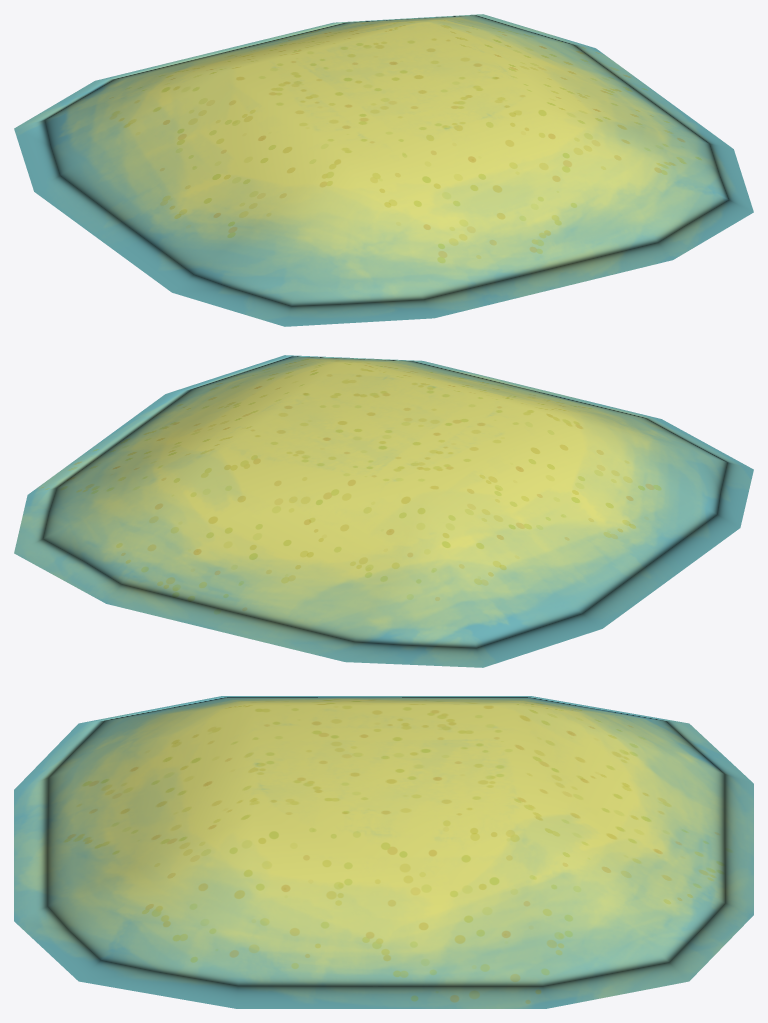
The model's file is island.fbx.
3 renders of one model, top to bottom at view 1: azimuth 30°, elevation 25°; view 2: azimuth 150°, elevation 25°; view 3: azimuth 270°, elevation 25°, orthographic. The views are drawn at different scales.
Visible parts, largest first — view 1: pCube13; view 2: pCube13; view 3: pCube13.
Boxes of the visible parts, bbox=[...] form: pCube13: bbox=[14, 14, 753, 326]; pCube13: bbox=[14, 355, 753, 667]; pCube13: bbox=[14, 696, 753, 1008].
Bounding box in the file's own units: 8.83 × 1.21 × 8.83.
